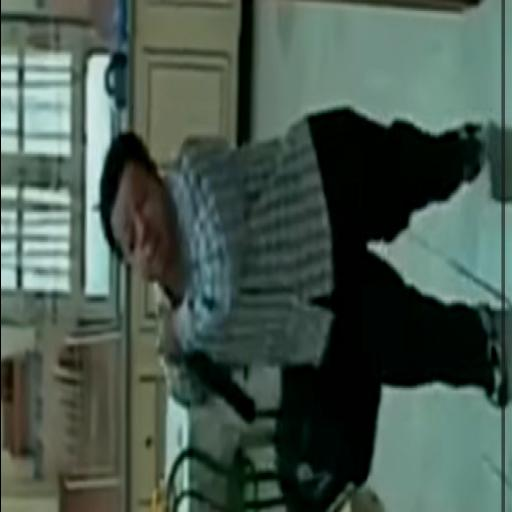fouchika: (97, 132, 182, 294)
